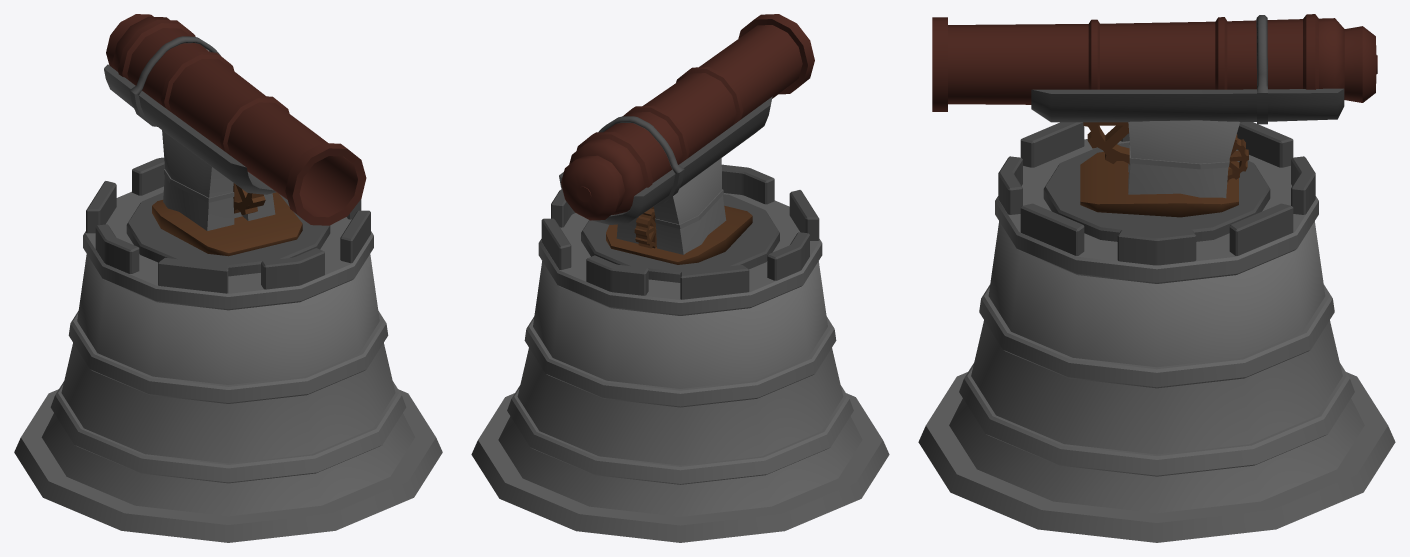
The model's file is Cannon_T3.fbx.
3 views of the same model, side by side, from view 1: azimuth 30°, elevation 25°; view 2: azimuth 150°, elevation 25°; view 3: azimuth 270°, elevation 25° (orthographic). The views are drawn at different scales.
Visible parts, largest first — view 1: CannonTowerBase_T3, CannonTower_Reinforcements_T3, CannonBody_T3, CannonTower_Studs_T3, CannonRotator_T3.001, CannonHolder_T3, CannonRotatorTower_T3, CannonBase_T3, HalfCogWheel_T3, CannonReloadChamber_T3; view 2: CannonTowerBase_T3, CannonTower_Reinforcements_T3, CannonBody_T3, CannonTower_Studs_T3, CannonRotator_T3.001, CannonHolder_T3, CannonRotatorTower_T3, CannonReloadChamber_T3, CannonBase_T3, CogWheel_Backside_T3; view 3: CannonTowerBase_T3, CannonTower_Reinforcements_T3, CannonBody_T3, CannonTower_Studs_T3, CannonHolder_T3, CannonRotatorTower_T3, CannonRotator_T3.001, CannonBase_T3, CannonReloadChamber_T3, HalfCogWheel_T3, RotatorReinforcer_T3, CogWheel_Backside_T3.
Part boxes in pixels (left/top/right/bottom): CannonTowerBase_T3: left=41, top=254, right=415, bottom=516; CannonTower_Reinforcements_T3: left=14, top=186, right=442, bottom=542; CannonBody_T3: left=112, top=16, right=366, bottom=225; CannonTower_Studs_T3: left=86, top=157, right=370, bottom=293; CannonRotator_T3.001: left=126, top=192, right=330, bottom=276; CannonHolder_T3: left=104, top=36, right=276, bottom=194; CannonRotatorTower_T3: left=162, top=130, right=275, bottom=230; CannonBase_T3: left=152, top=192, right=302, bottom=256; HalfCogWheel_T3: left=233, top=183, right=265, bottom=215; CannonReloadChamber_T3: left=106, top=14, right=153, bottom=68; CannonTowerBase_T3: left=498, top=261, right=862, bottom=516; CannonTower_Reinforcements_T3: left=471, top=193, right=889, bottom=542; CannonBody_T3: left=569, top=14, right=814, bottom=214; CannonTower_Studs_T3: left=541, top=164, right=819, bottom=299; CannonRotator_T3.001: left=581, top=194, right=779, bottom=282; CannonHolder_T3: left=559, top=96, right=772, bottom=224; CannonRotatorTower_T3: left=616, top=158, right=726, bottom=254; CannonReloadChamber_T3: left=561, top=155, right=625, bottom=220; CannonBase_T3: left=606, top=205, right=752, bottom=264; CogWheel_Backside_T3: left=634, top=207, right=656, bottom=248; CannonTowerBase_T3: left=949, top=221, right=1364, bottom=513; CannonTower_Reinforcements_T3: left=918, top=139, right=1395, bottom=542; CannonBody_T3: left=932, top=14, right=1344, bottom=111; CannonTower_Studs_T3: left=998, top=122, right=1315, bottom=265; CannonHolder_T3: left=1031, top=15, right=1344, bottom=124; CannonRotatorTower_T3: left=1128, top=120, right=1239, bottom=198; CannonRotator_T3.001: left=1043, top=142, right=1270, bottom=241; CannonBase_T3: left=1080, top=152, right=1238, bottom=217; CannonReloadChamber_T3: left=1344, top=26, right=1377, bottom=102; HalfCogWheel_T3: left=1083, top=122, right=1129, bottom=164; RotatorReinforcer_T3: left=1129, top=145, right=1229, bottom=169; CogWheel_Backside_T3: left=1227, top=134, right=1248, bottom=182.
Bounding box in the file's own units: 181 × 178 × 181.
